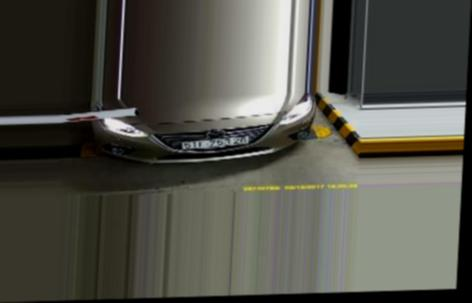License_Plate: (178, 132, 252, 153)
